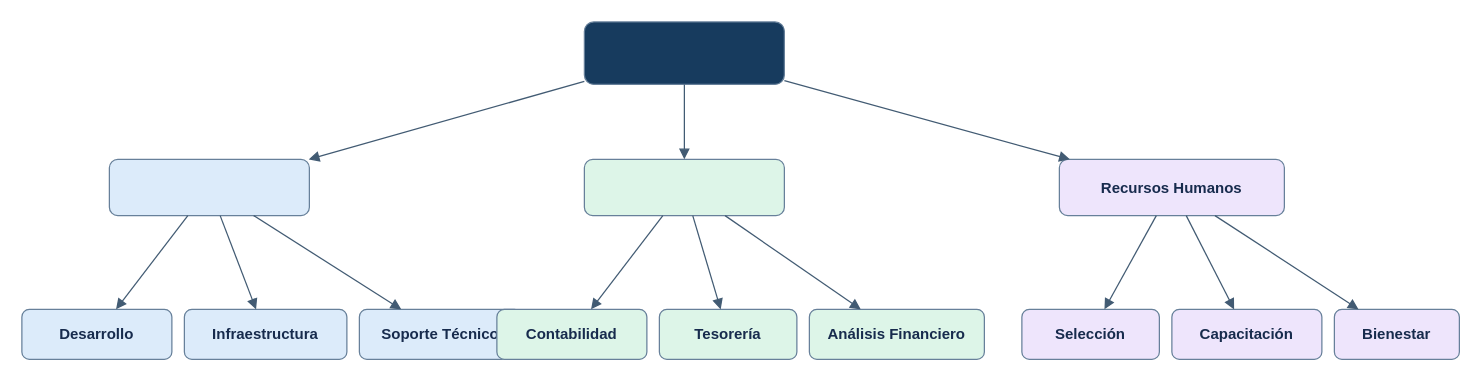
Some shapes in this 1481 by 381 pixel diagram are drawn without their labels. The shapes that lost their labels are listed below. From the top down, each one's centre as x and y in pixels, then its label:
[683,52]: Empresa
[208,187]: Tecnología
[683,187]: Finanzas
